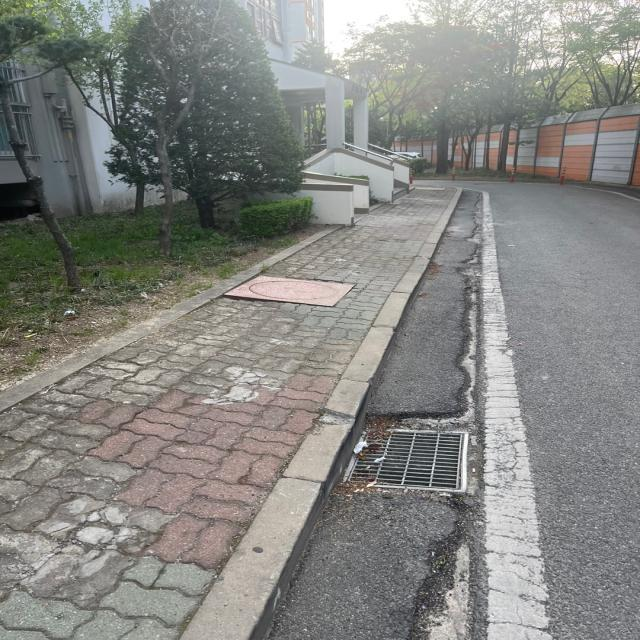Sewer Cover: (226, 267, 371, 322)
